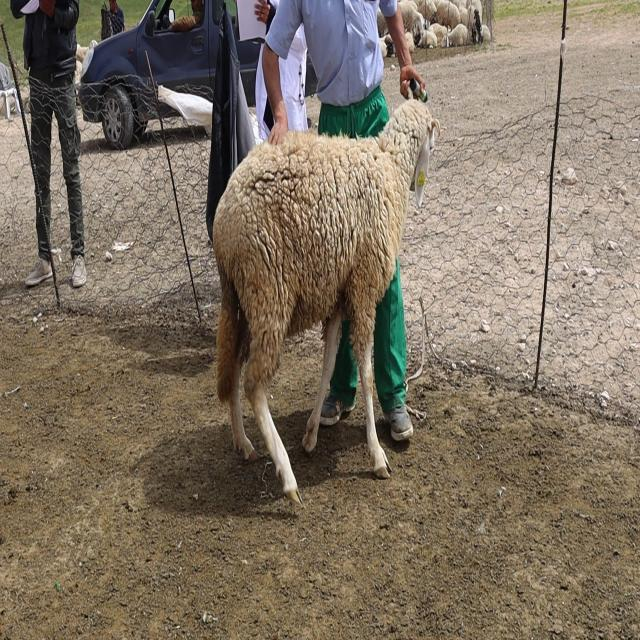Score_2: (213, 93, 440, 504)
